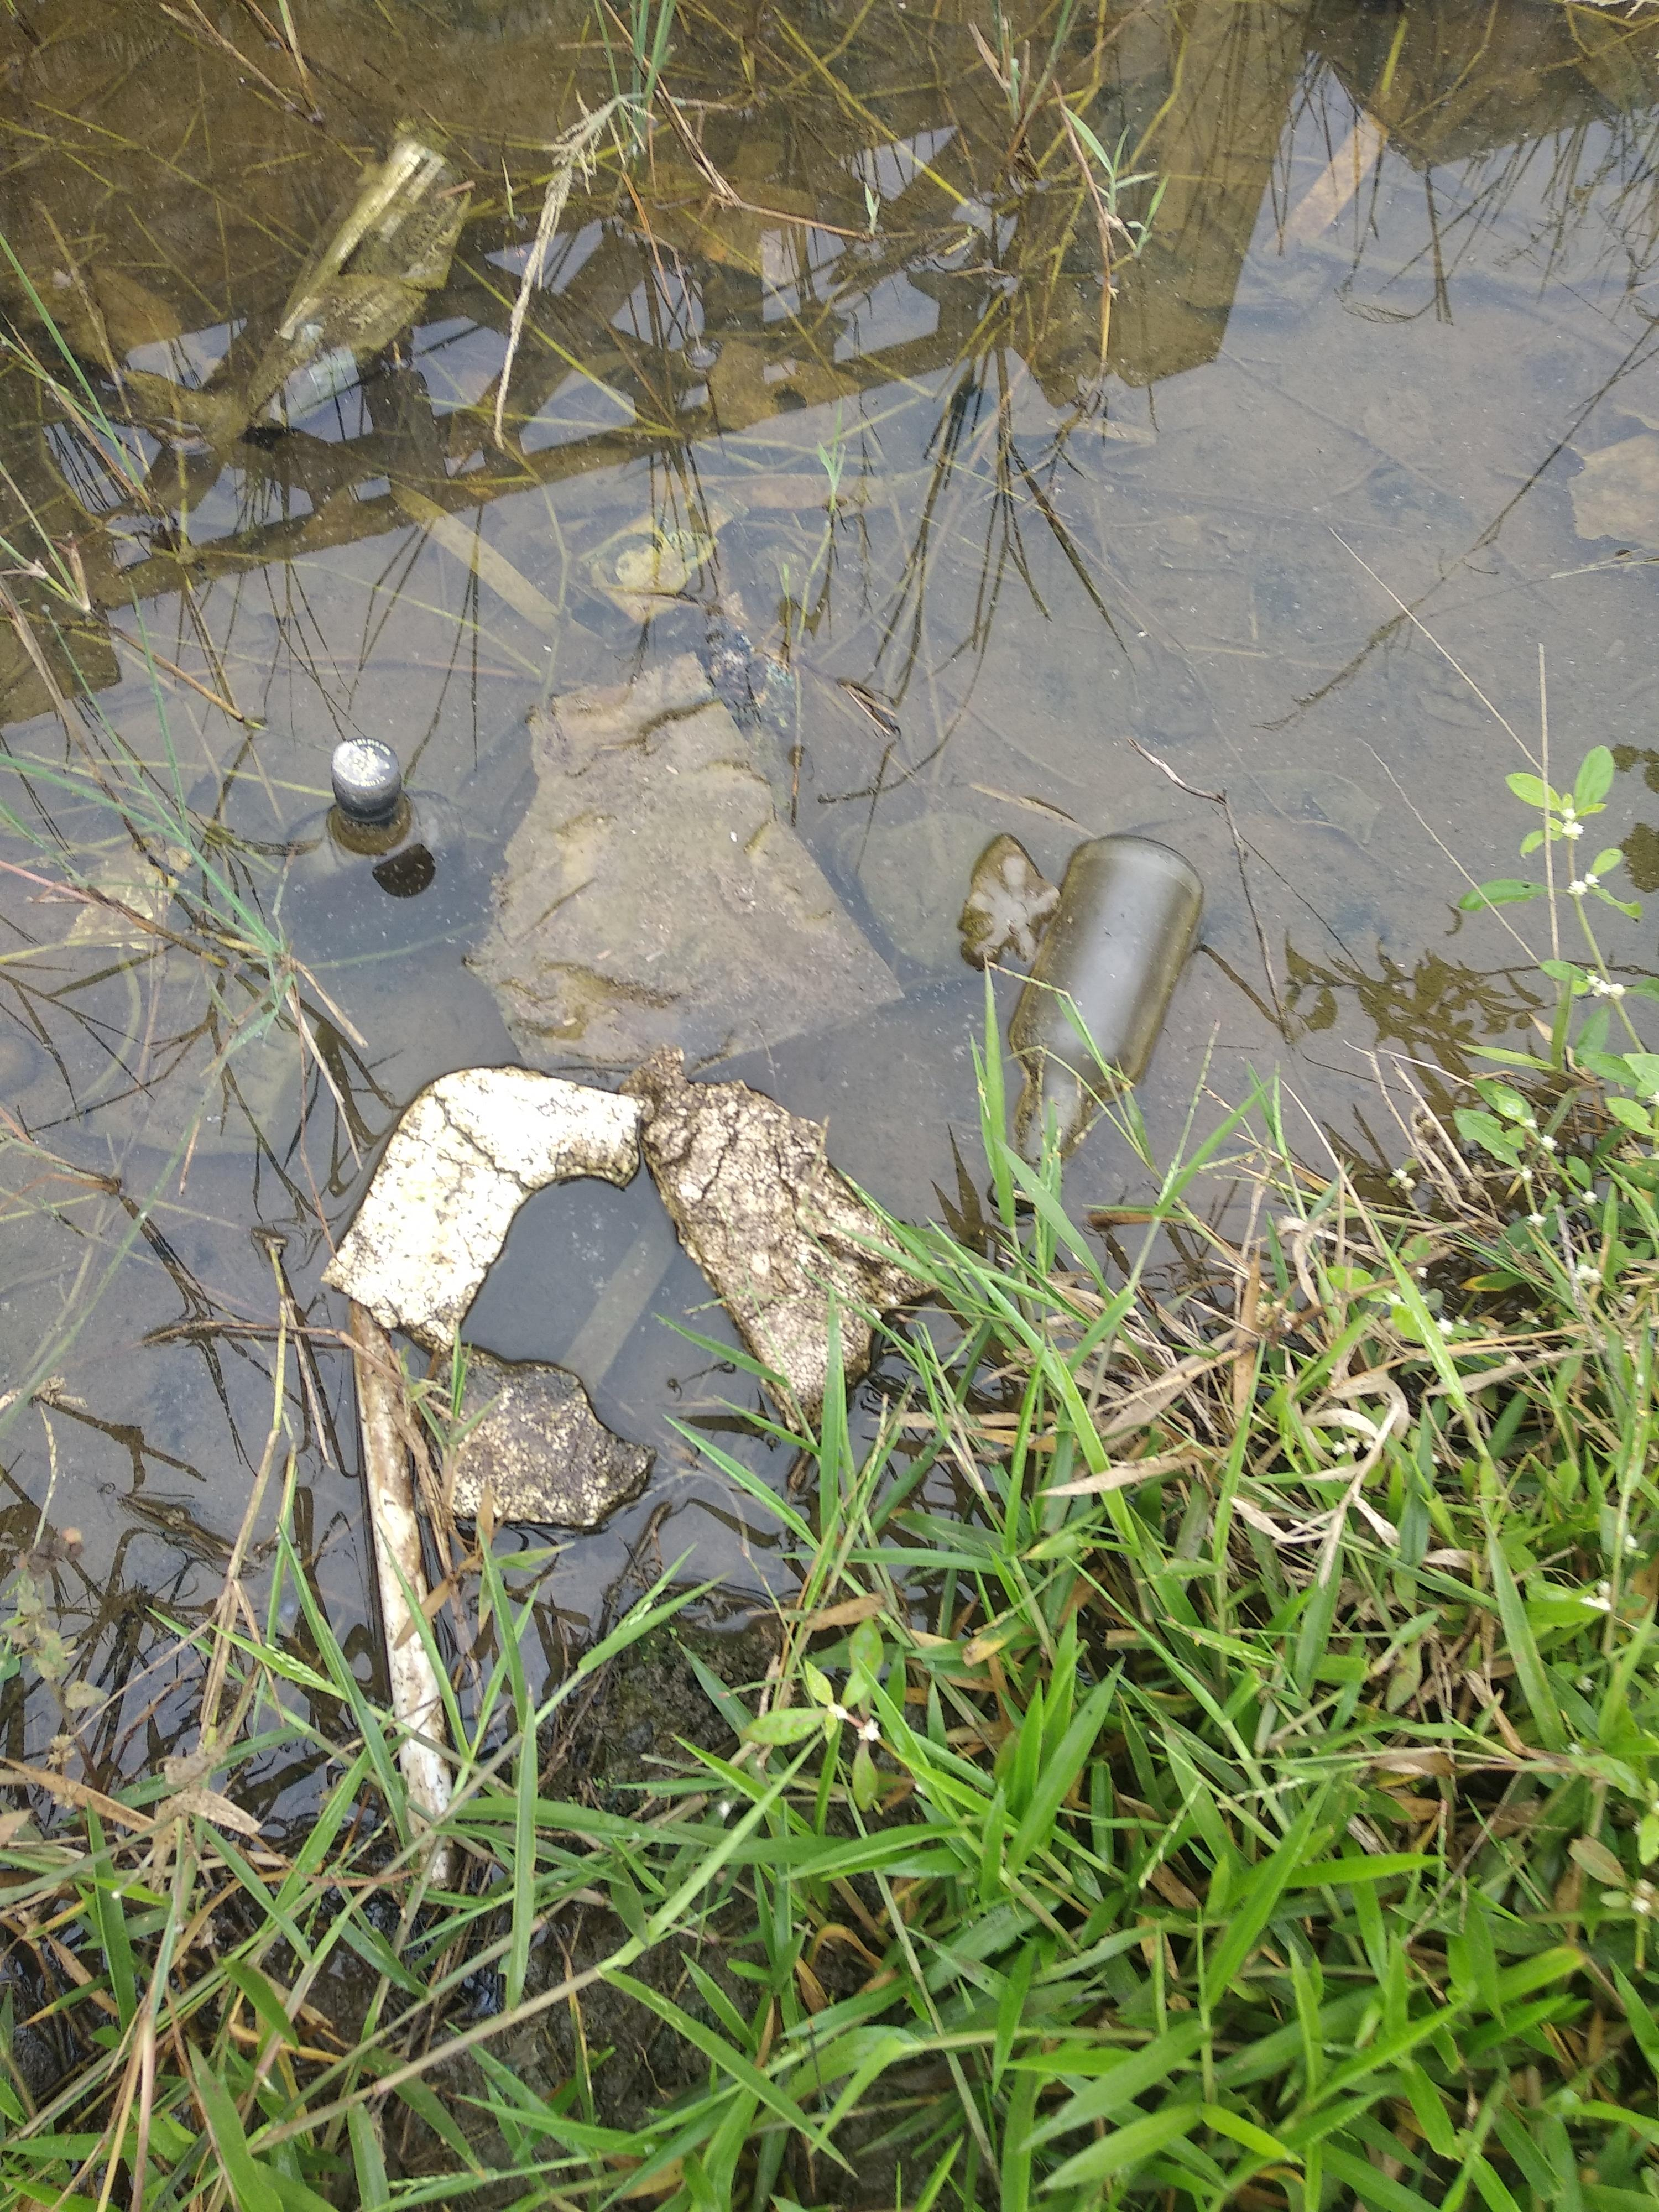trash: (336, 671, 1249, 1649)
